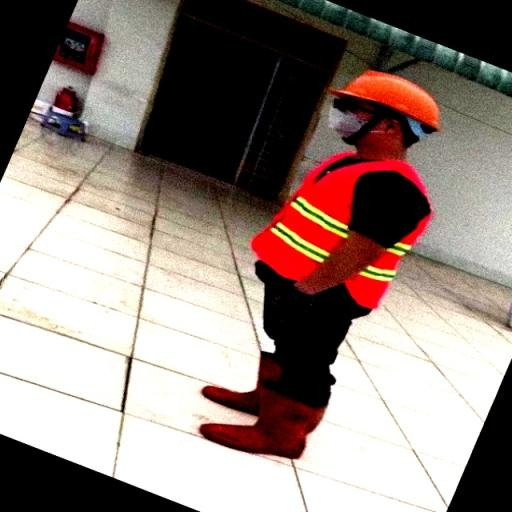boots: (189, 386, 324, 466), (193, 343, 282, 409)
helmet: (330, 57, 450, 138)
vest: (256, 144, 426, 314)
